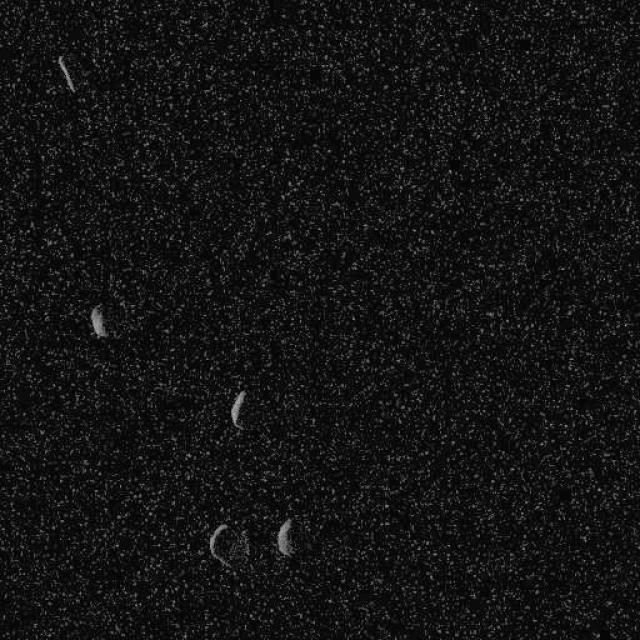D2: (208, 521, 250, 574), (275, 516, 296, 558), (55, 54, 76, 92), (89, 302, 109, 338), (229, 389, 246, 430)
